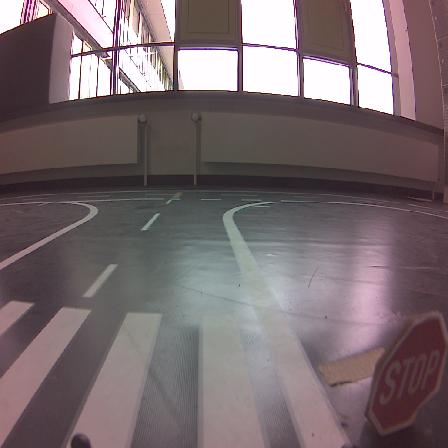STOP: (365, 312, 447, 434)
